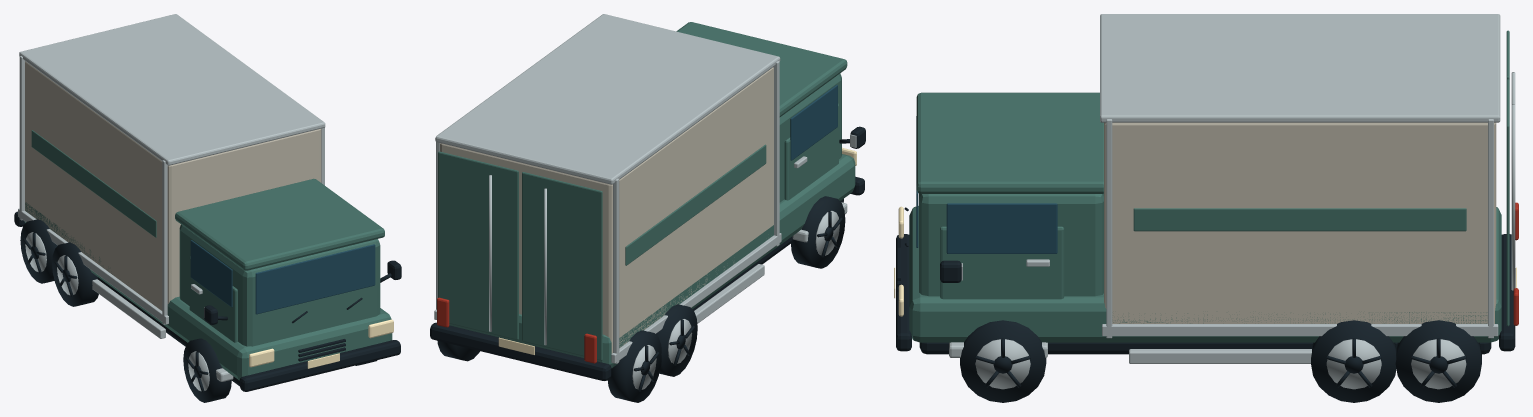
The model's file is truck.glb.
3 renders of one model, left to right at view 1: azimuth 30°, elevation 25°; view 2: azimuth 150°, elevation 25°; view 3: azimuth 270°, elevation 25°, orthographic. The views are drawn at different scales.
Visible parts, largest first — view 1: Vehicle_truck_Brushed_Aluminium, Vehicle_truck_Cargo_Panel, Vehicle_truck_Vehicle_Paint, Vehicle_truck_Blue_Glass, Vehicle_truck_Tyres_And_Trim, VehicleWheelRearLeft_Tyres_And_Trim, VehicleWheelFrontLeft_Tyres_And_Trim, DoorLeft_Blue_Glass, DoorLeft_Vehicle_Paint, VehicleWheelBackLeft_Tyres_And_Trim, Vehicle_truck_Headlights, VehicleWheelRearLeft_Brushed_Aluminium (+2 smaller); view 2: Vehicle_truck_Vehicle_Paint, Vehicle_truck_Brushed_Aluminium, Vehicle_truck_Cargo_Panel, Vehicle_truck_Tyres_And_Trim, VehicleWheelBackLeft_Tyres_And_Trim, VehicleWheelFrontLeft_Tyres_And_Trim, DoorLeft_Vehicle_Paint, DoorLeft_Blue_Glass, VehicleWheelRearLeft_Tyres_And_Trim, Vehicle_truck_Rear_Lights, VehicleWheelFrontLeft_Brushed_Aluminium, VehicleWheelRearLeft_Brushed_Aluminium (+3 smaller); view 3: Vehicle_truck_Cargo_Panel, Vehicle_truck_Brushed_Aluminium, Vehicle_truck_Vehicle_Paint, Vehicle_truck_Tyres_And_Trim, DoorRight_Blue_Glass, DoorRight_Vehicle_Paint, VehicleWheelFrontRight_Tyres_And_Trim, VehicleWheelBackRight_Tyres_And_Trim, VehicleWheelRearRight_Tyres_And_Trim, VehicleWheelBackRight_Brushed_Aluminium, VehicleWheelRearRight_Brushed_Aluminium, VehicleWheelFrontRight_Brushed_Aluminium.
Part boxes in pixels (box(x1,y1,x2,y2)): Vehicle_truck_Brushed_Aluminium: box(18, 14, 387, 381); Vehicle_truck_Cargo_Panel: box(25, 61, 321, 310); Vehicle_truck_Vehicle_Paint: box(24, 130, 392, 380); Vehicle_truck_Blue_Glass: box(255, 244, 375, 314); Vehicle_truck_Tyres_And_Trim: box(14, 211, 401, 391); VehicleWheelRearLeft_Tyres_And_Trim: box(52, 242, 98, 306); VehicleWheelFrontLeft_Tyres_And_Trim: box(183, 338, 231, 402); DoorLeft_Blue_Glass: box(190, 240, 232, 307); DoorLeft_Vehicle_Paint: box(189, 256, 237, 342); VehicleWheelBackLeft_Tyres_And_Trim: box(20, 219, 57, 283); Vehicle_truck_Headlights: box(249, 319, 393, 368); VehicleWheelRearLeft_Brushed_Aluminium: box(57, 255, 78, 295); Vehicle_truck_Vehicle_Paint: box(438, 22, 855, 368); Vehicle_truck_Brushed_Aluminium: box(434, 14, 856, 363); Vehicle_truck_Cargo_Panel: box(440, 67, 773, 353); Vehicle_truck_Tyres_And_Trim: box(430, 126, 865, 380); VehicleWheelBackLeft_Tyres_And_Trim: box(608, 330, 661, 402); VehicleWheelFrontLeft_Tyres_And_Trim: box(791, 196, 845, 268); DoorLeft_Vehicle_Paint: box(784, 103, 838, 200); DoorLeft_Blue_Glass: box(790, 85, 837, 160); VehicleWheelRearLeft_Tyres_And_Trim: box(656, 304, 697, 376); Vehicle_truck_Rear_Lights: box(437, 297, 596, 363); VehicleWheelFrontLeft_Brushed_Aluminium: box(815, 210, 839, 255); VehicleWheelRearLeft_Brushed_Aluminium: box(668, 319, 692, 363); Vehicle_truck_Cargo_Panel: box(1104, 122, 1496, 323); Vehicle_truck_Brushed_Aluminium: box(949, 14, 1515, 363); Vehicle_truck_Vehicle_Paint: box(909, 30, 1509, 342); Vehicle_truck_Tyres_And_Trim: box(896, 207, 1515, 354); DoorRight_Blue_Glass: box(946, 203, 1057, 253); DoorRight_Vehicle_Paint: box(940, 226, 1064, 299); VehicleWheelFrontRight_Tyres_And_Trim: box(960, 320, 1046, 402); VehicleWheelBackRight_Tyres_And_Trim: box(1395, 320, 1481, 402); VehicleWheelRearRight_Tyres_And_Trim: box(1311, 320, 1396, 402); VehicleWheelBackRight_Brushed_Aluminium: box(1411, 339, 1466, 389); VehicleWheelRearRight_Brushed_Aluminium: box(1326, 339, 1381, 389); VehicleWheelFrontRight_Brushed_Aluminium: box(975, 339, 1030, 389).
Bounding box in the file's own units: 3.29 × 3.48 × 6.94.
